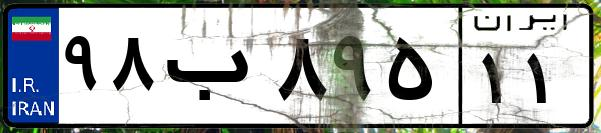1: (475, 38, 525, 113), (525, 38, 570, 115)
5: (385, 28, 445, 110)
8: (270, 28, 330, 110), (110, 28, 158, 98)
9: (330, 28, 385, 110), (57, 26, 110, 100)
ب: (158, 20, 270, 120)
